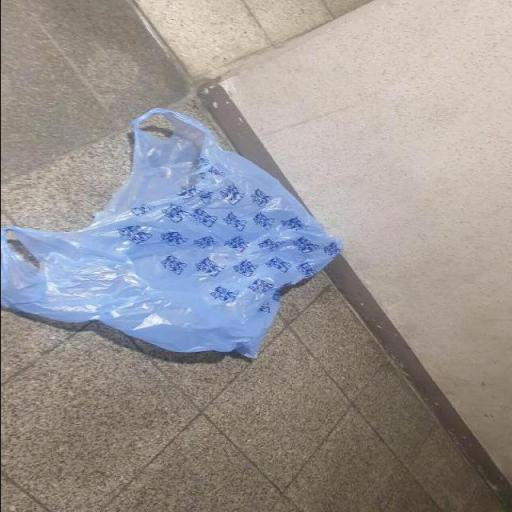plastic-bag: (0, 108, 347, 364)
